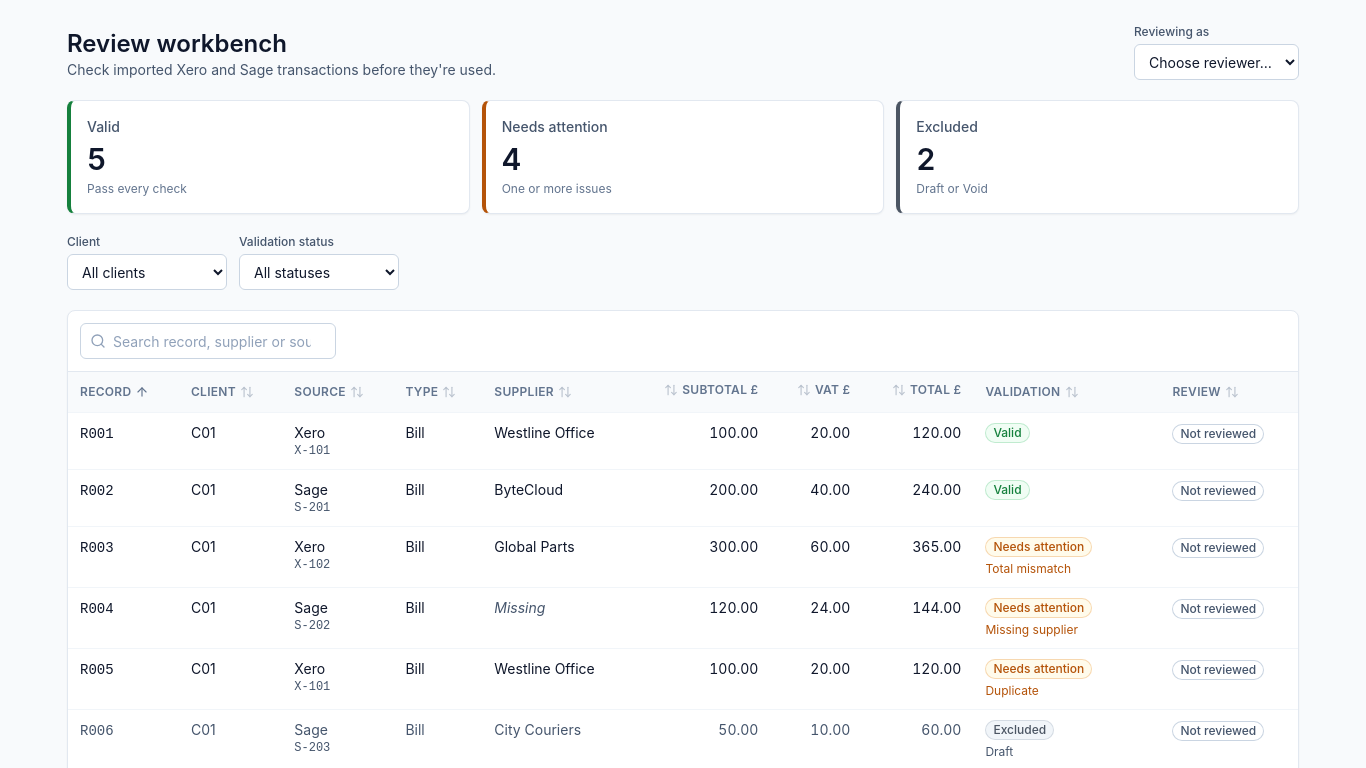
Test: Record detail panel › opens when a row is clicked and closes with the button or Escape
This screenshot has width=1366, height=768.
Later steps or results of the test are not shown.
Click the text "Global Parts". click: click(556, 556)
box: [482,526,630,587]
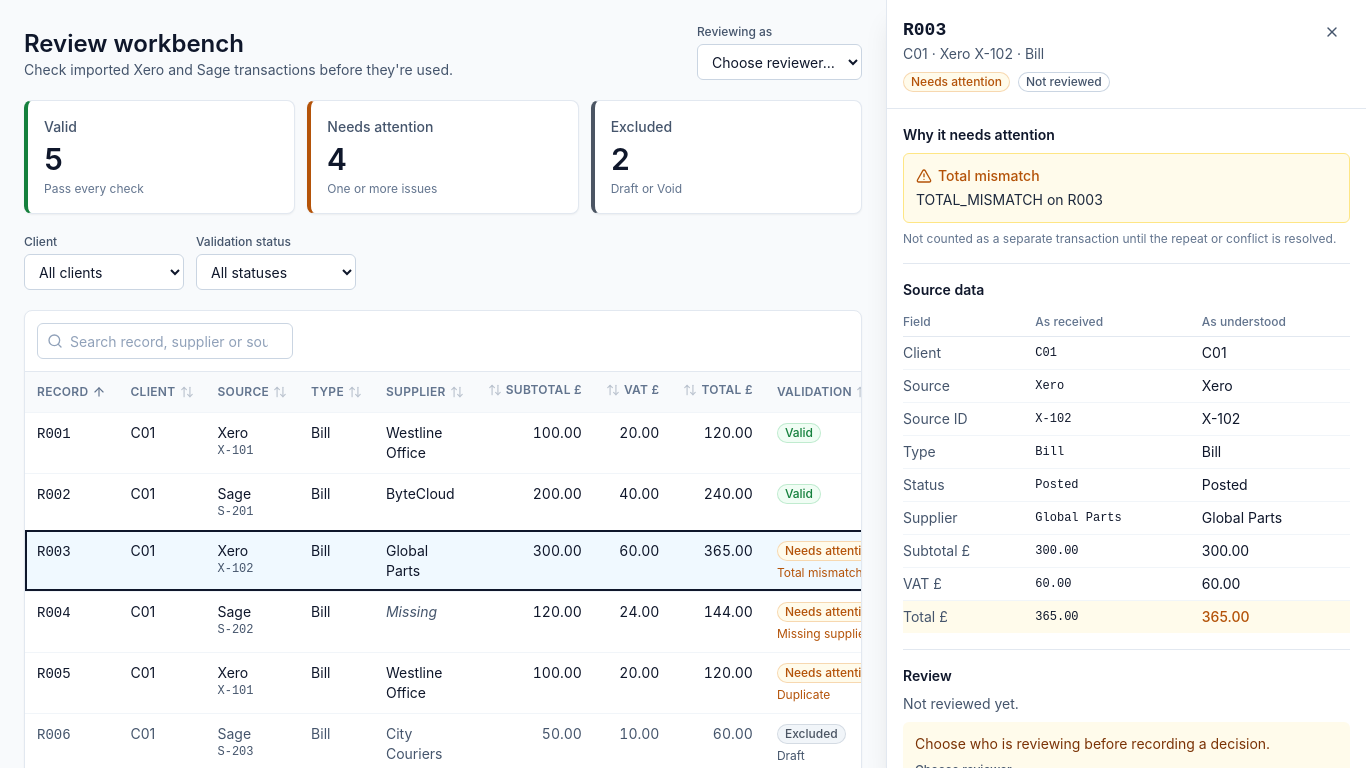
Expected: the element named "Record R003" is shown, [886,0,1365,767]
Click the button named "Close record". click: click(1332, 32)
box: [1314,16,1350,48]
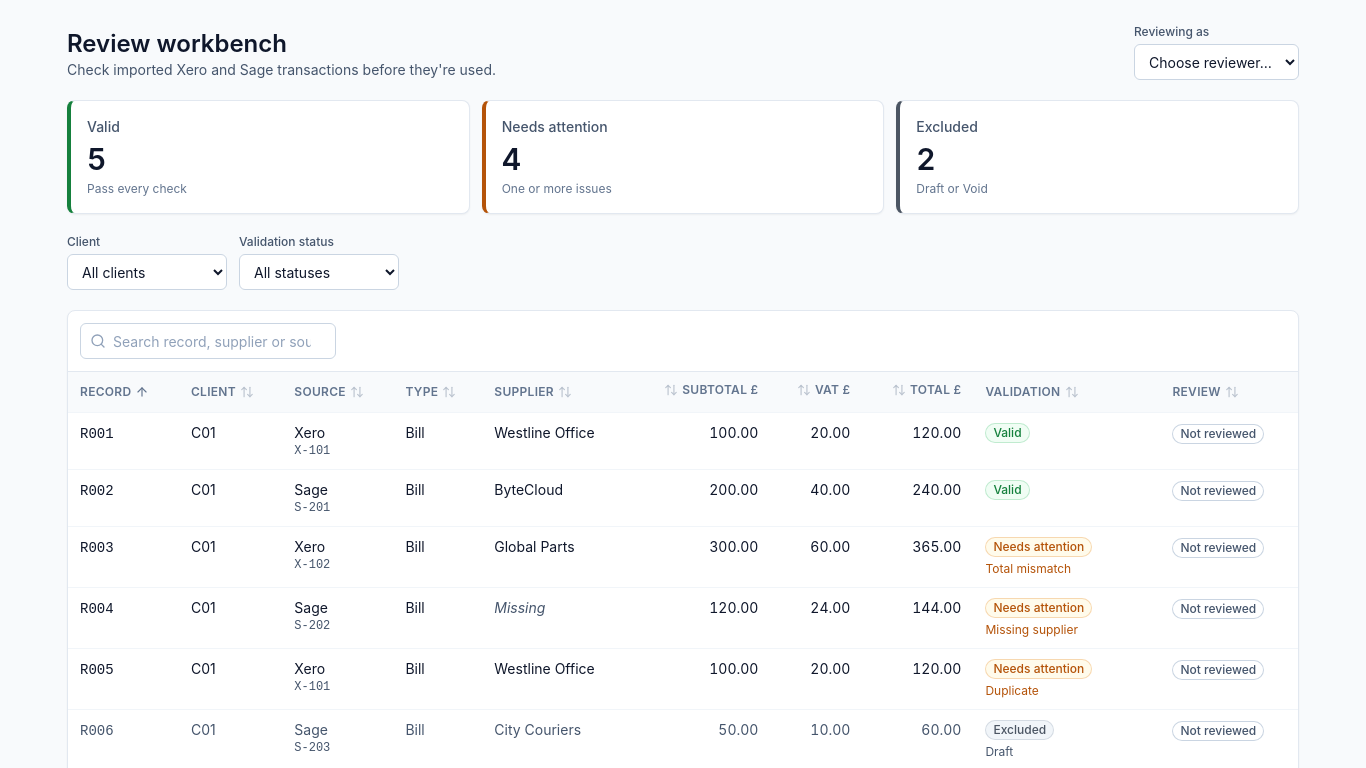
Click the text "Global Parts". click: click(556, 556)
box: [482,526,630,587]
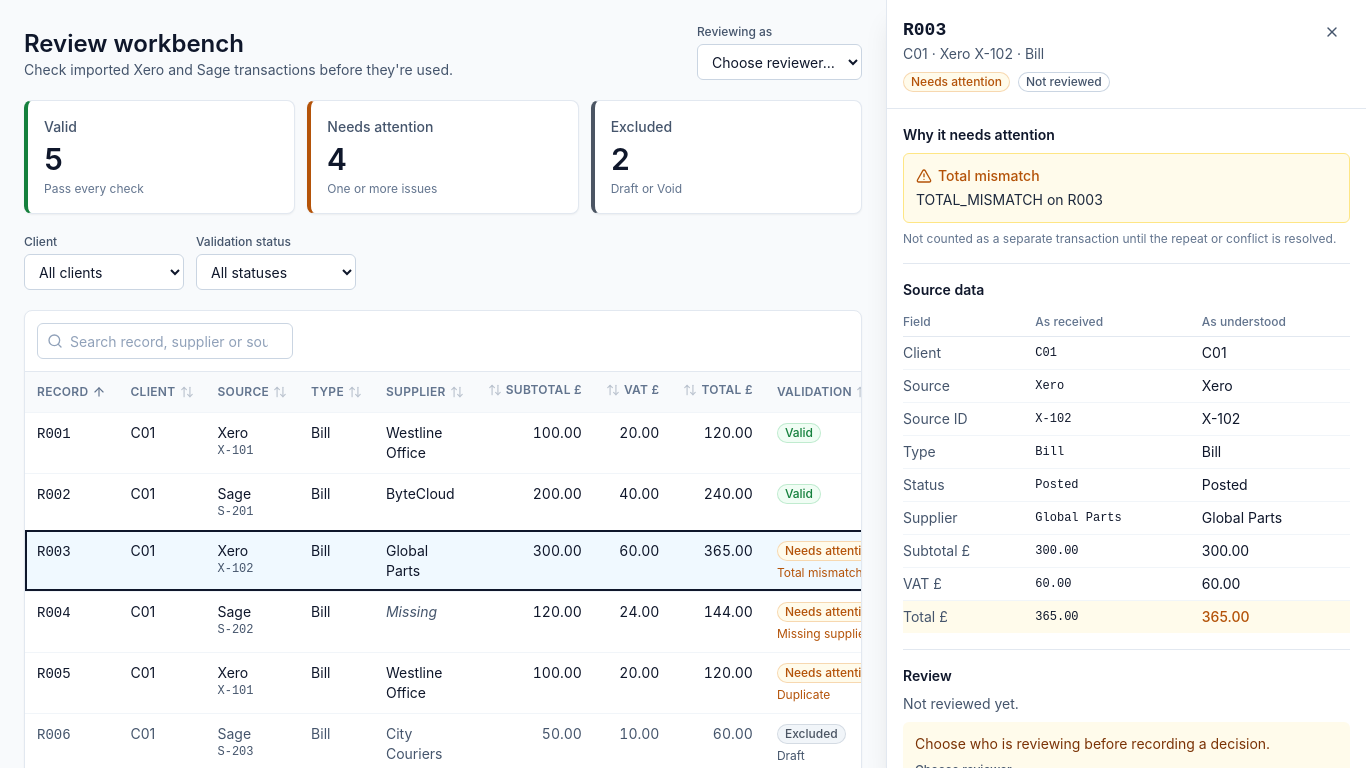
Expected: the element named "Record R003" is shown, [886,0,1365,767]
